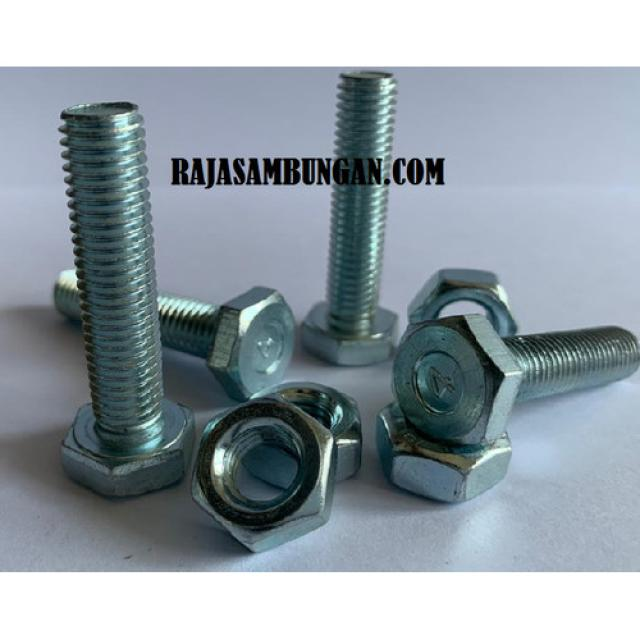Logam: (44, 78, 192, 518), (408, 259, 640, 470), (308, 68, 414, 379), (213, 384, 366, 564), (196, 258, 292, 391)
